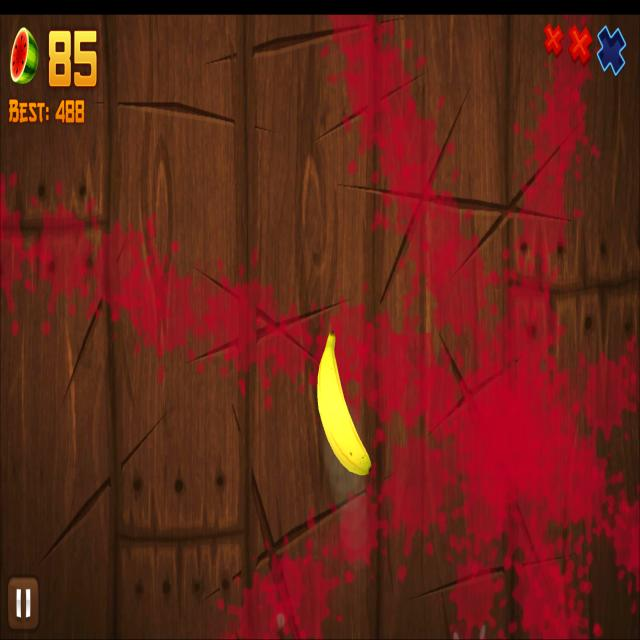fruit: (316, 331, 372, 476)
